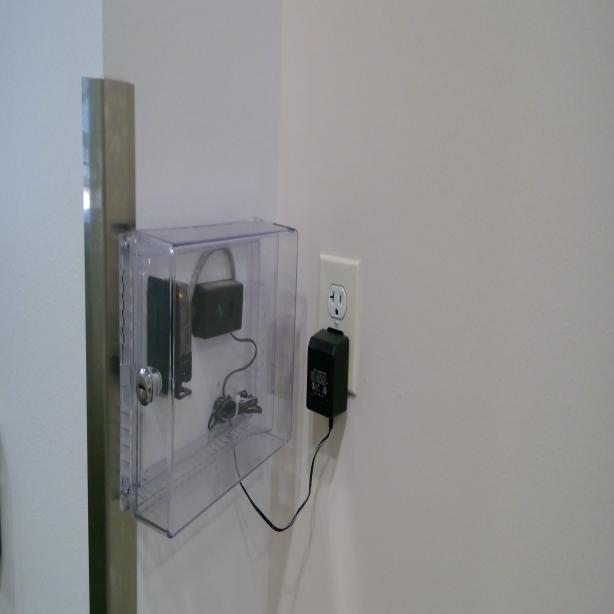typeb: (329, 288, 345, 316)
